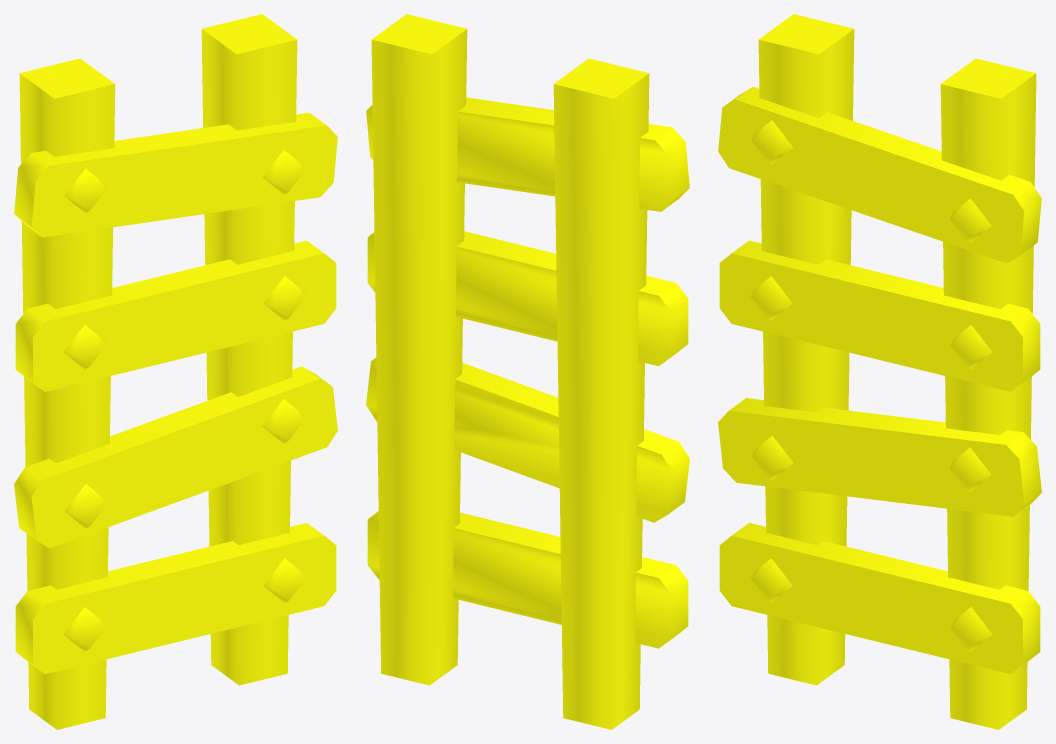
Rendered from _fbx_all_ladder.glb.
3 renders of one model, left to right at view 1: azimuth 30°, elevation 25°; view 2: azimuth 150°, elevation 25°; view 3: azimuth 330°, elevation 25°, orthographic.
Visible parts, largest first — view 1: ladder; view 2: ladder; view 3: ladder.
Boxes of the visible parts, x1=… form: ladder: x1=14, y1=14, x2=337, y2=729; ladder: x1=366, y1=14, x2=689, y2=729; ladder: x1=718, y1=14, x2=1041, y2=729.
Bounding box in the file's own units: 0.5049 × 1 × 0.1375.
Materials: 1 (1 with a texture image).
